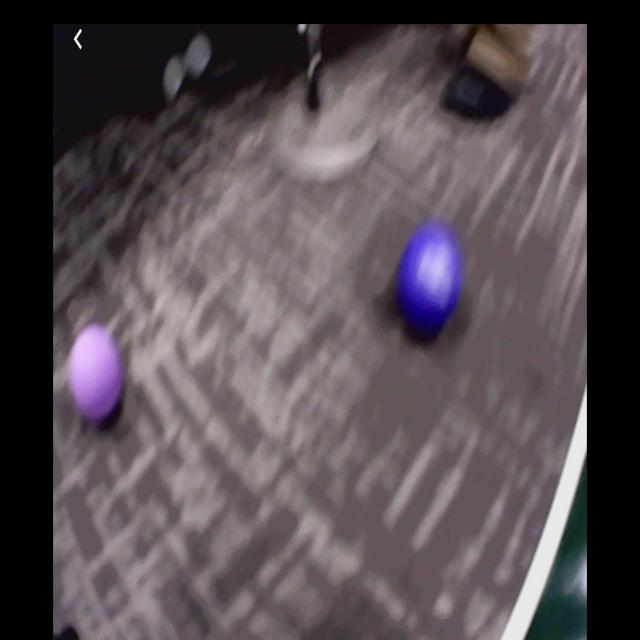ball: (401, 228, 462, 326), (71, 326, 122, 419)
